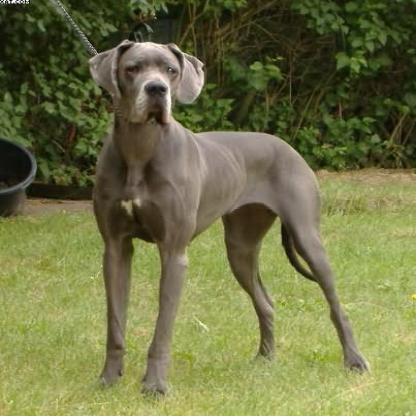Great_Dane: (79, 39, 366, 404)
